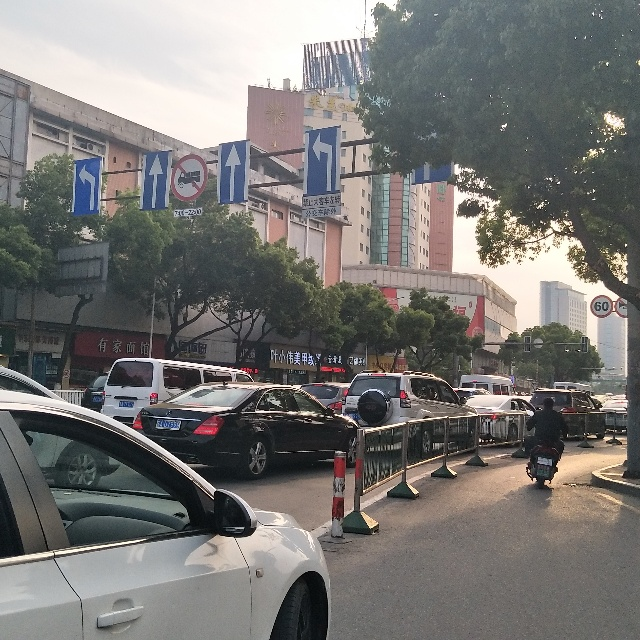left: (302, 126, 346, 196), (69, 158, 103, 215)
nohonk: (614, 291, 638, 321)
straight: (404, 114, 457, 187), (139, 144, 172, 214), (219, 136, 252, 206)
